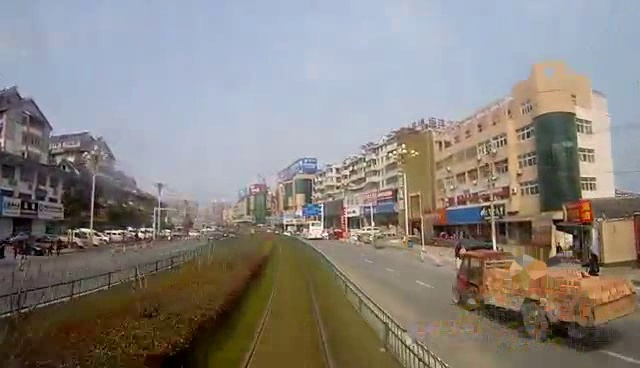car: (448, 241, 638, 341)
